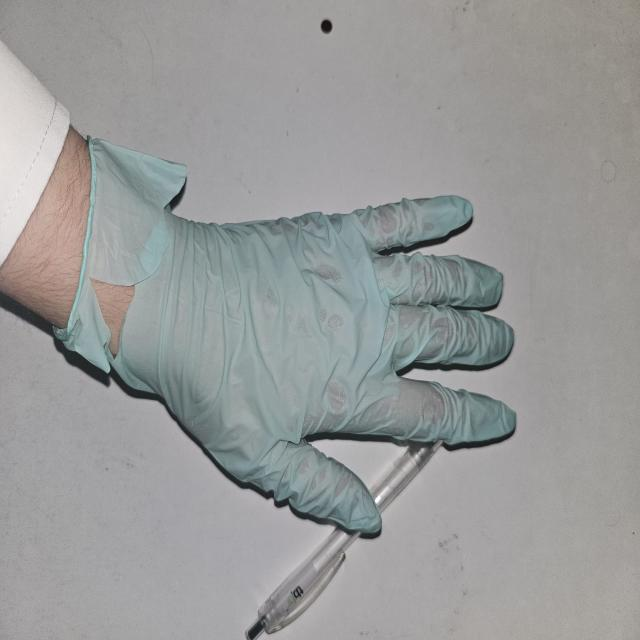gloves_damaged: (55, 134, 519, 533)
